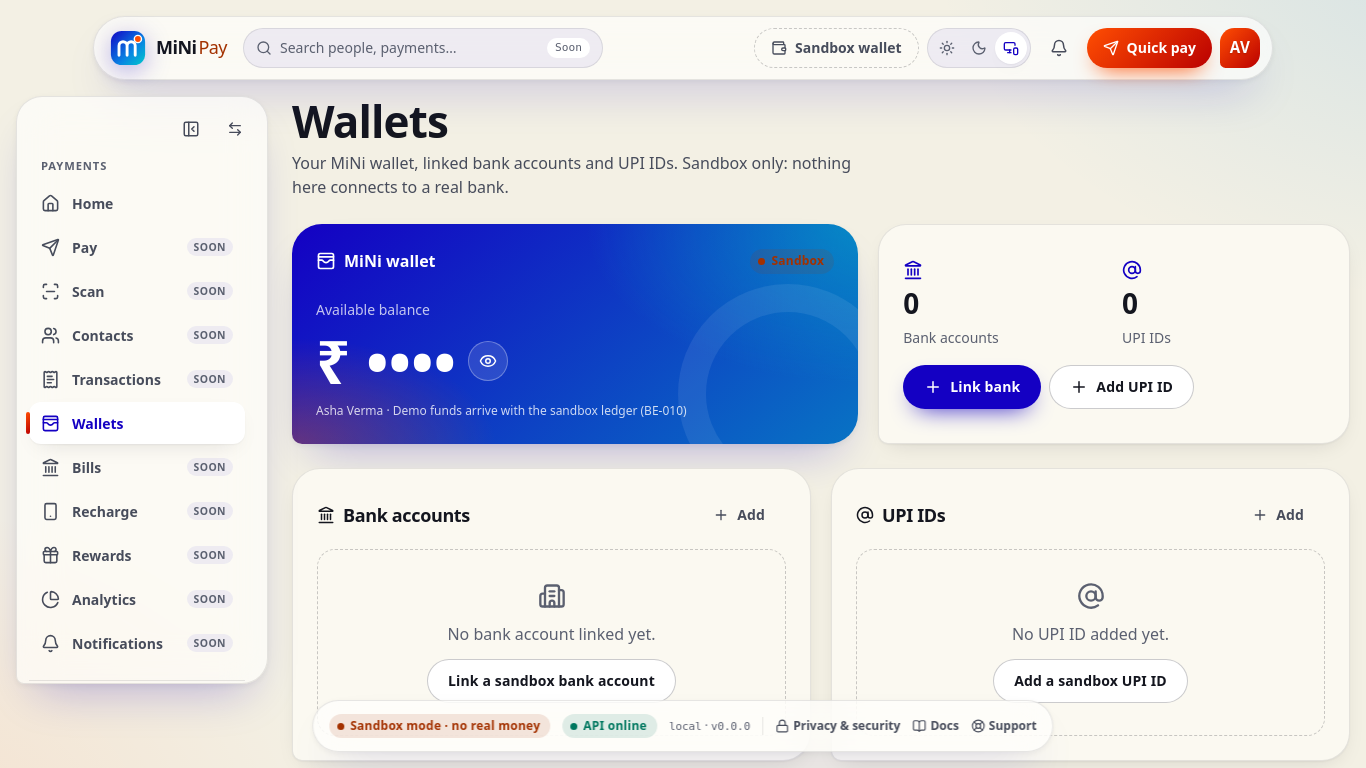
Test: wallets › hides the balance when the preference is on
Expected: the text "₹12,345.00" is not shown
Click the button named "Show balance": (488, 361) [468, 341, 508, 381]
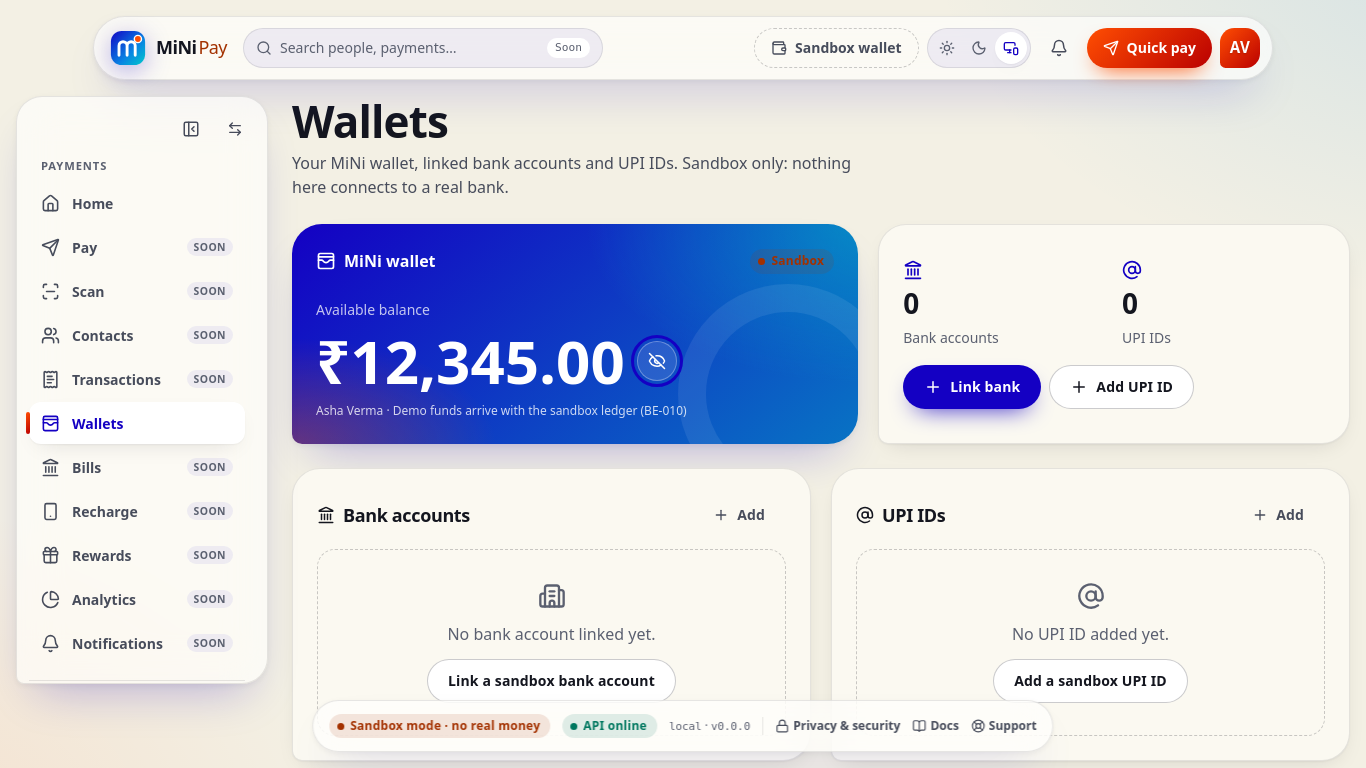
Now the text "₹12,345.00" is shown, box [316, 331, 625, 391]
